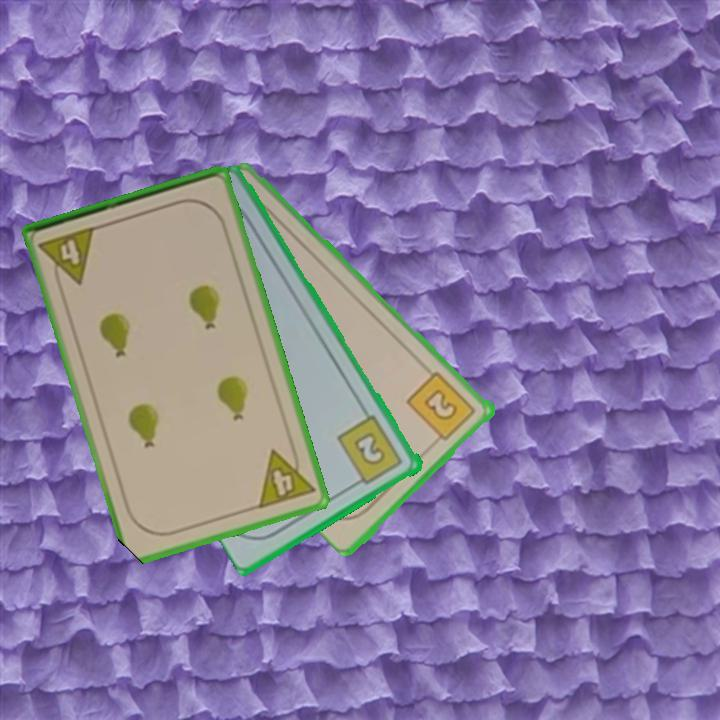2b: (403, 368, 479, 448), (334, 412, 406, 490)
4p: (254, 440, 318, 512), (35, 223, 99, 292)
